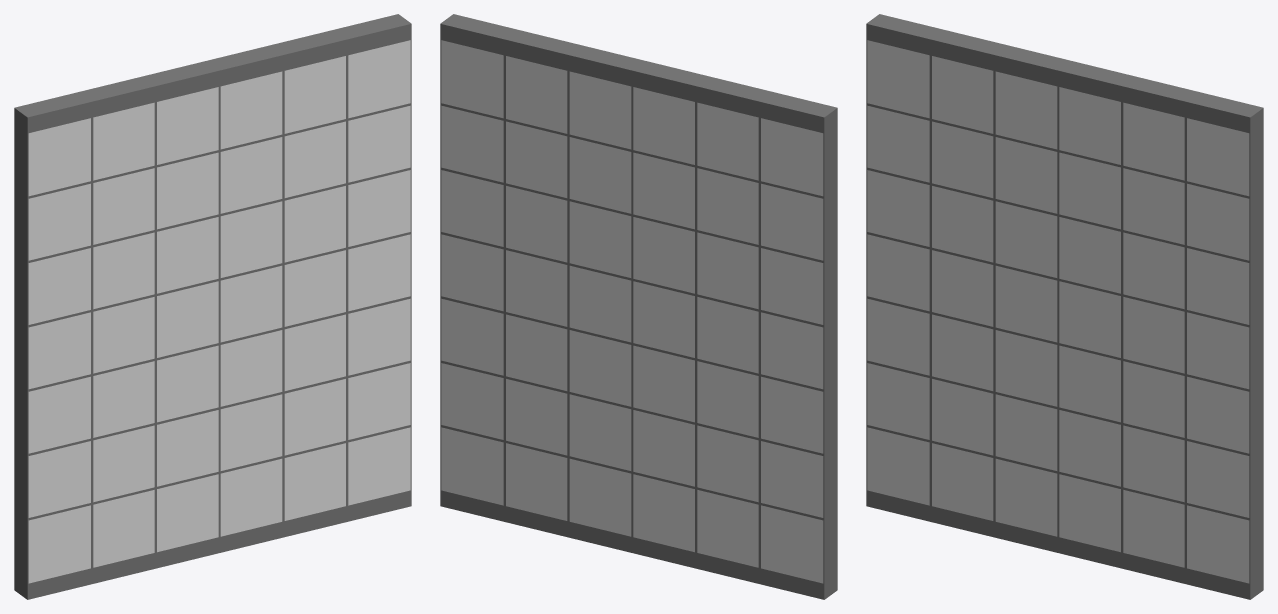
The model's file is Wall3_C7_16.fbx.
3 renders of one model, left to right at view 1: azimuth 30°, elevation 25°; view 2: azimuth 150°, elevation 25°; view 3: azimuth 330°, elevation 25°, orthographic.
Parts seen in each view (by area): view 1: Wall3_C7_16; view 2: Wall3_C7_16; view 3: Wall3_C7_16.
Boxes of the visible parts, x1,y1,x2,y2 form: Wall3_C7_16: (14, 14, 411, 599); Wall3_C7_16: (440, 14, 837, 599); Wall3_C7_16: (866, 14, 1263, 599).
Bounding box in the file's own units: 250 × 300 × 15.
